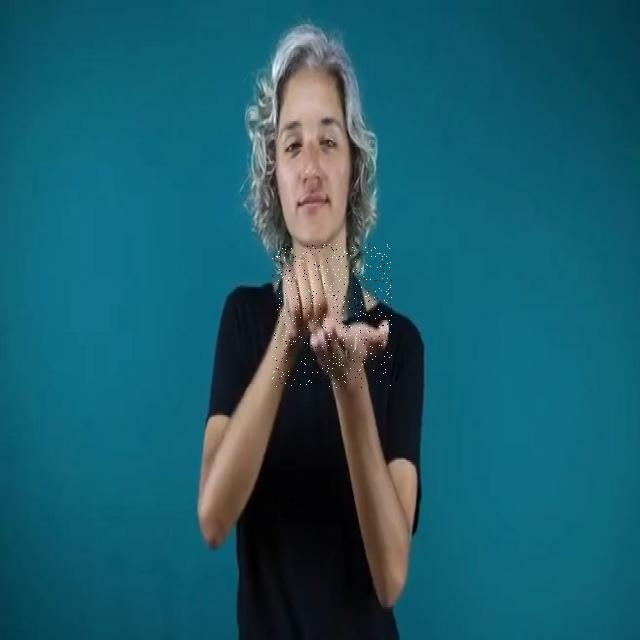chicken: (272, 244, 392, 388)
